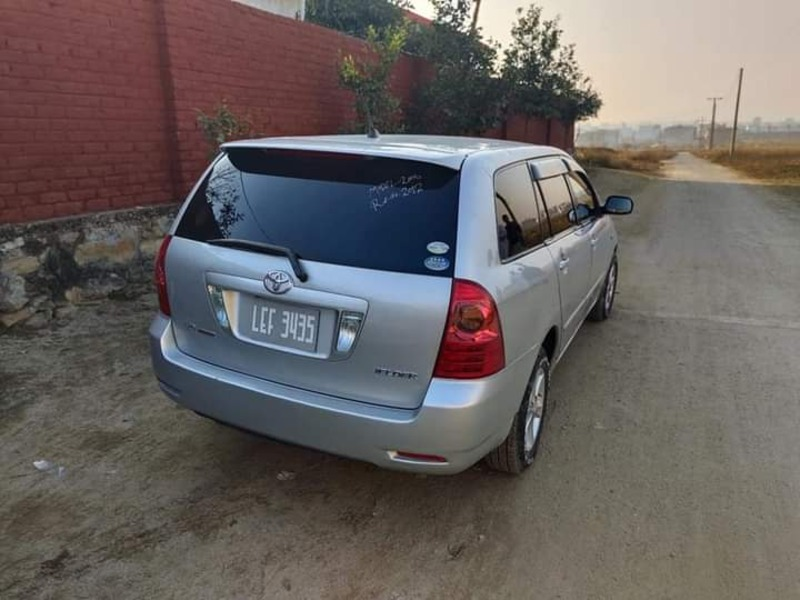License Plate: (231, 285, 325, 361)
